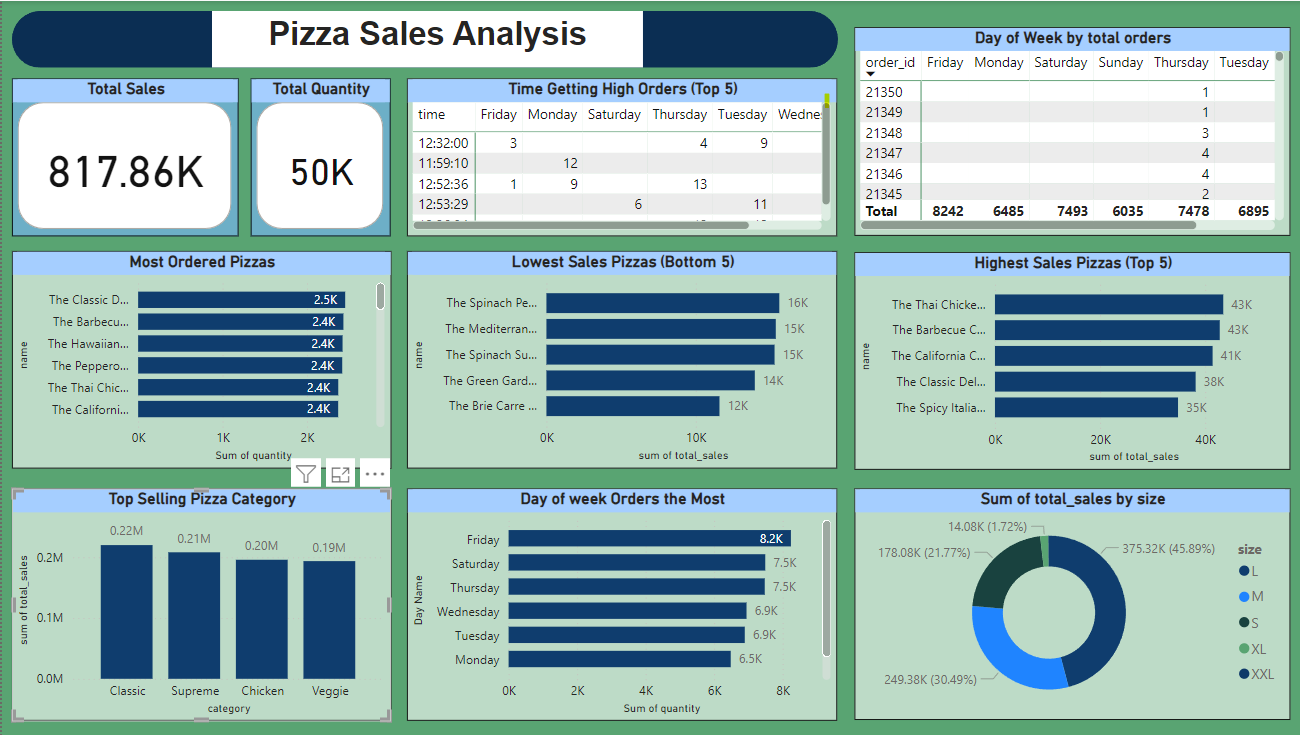

The page's visual inventory and layout, read from the dashboard file:
{"tool":"powerbi","page":{"name":"Page 1","canvas":[1280,720],"ordinal":0},"visuals":[{"type":"cardVisual","title":"Total Sales","fields":{"Data":["Sum(order_details.total_sales)"]},"box":[9.5,75.8,222,154.3],"z":0},{"type":"barChart","title":"Highest Sales Pizzas (Top 5)","fields":{"Category":["pizza_types.name"],"Y":["order_details.sumoftotalsales"]},"box":[833.7,246.3,426.3,212.5],"z":1000},{"type":"barChart","title":"Lowest Sales Pizzas (Bottom 5)","fields":{"Category":["pizza_types.name"],"Y":["order_details.sumoftotalsales"]},"box":[396.5,245,420.9,212.5],"z":2000},{"type":"cardVisual","title":"Total Quantity","fields":{"Data":["Sum(order_details.quantity)"]},"box":[243.6,75.8,136.7,154.3],"z":3000},{"type":"columnChart","title":"Top Selling Pizza Category","fields":{"Category":["pizza_types.category"],"Y":["order_details.sum of total_sales"]},"box":[9.5,476.4,370.8,227.4],"z":4000},{"type":"barChart","title":"Day of week Orders the Most","fields":{"Y":["Sum(order_details.quantity)"],"Category":["orders.Day Name"]},"box":[396.5,476.4,420.9,227.4],"z":5000},{"type":"barChart","title":"Most Ordered Pizzas","fields":{"Y":["Sum(order_details.quantity)"],"Category":["pizza_types.name"]},"box":[9.5,245,370.8,212.5],"z":6000},{"type":"pivotTable","title":"Day of Week by total orders","fields":{"Rows":["orders.order_id"],"Columns":["orders.Day Name"],"Values":["Sum(order_details.quantity)"]},"box":[833.7,25.7,426.3,204.4],"z":7000},{"type":"pivotTable","title":"Time Getting High Orders (Top 5)","fields":{"Rows":["orders.time"],"Columns":["orders.Day Name"],"Values":["Sum(order_details.quantity)"]},"box":[396.5,75.8,420.9,154.3],"z":8000},{"type":"donutChart","fields":{"Y":["Sum(order_details.total_sales)"],"Category":["pizzas.size"]},"box":[833.7,476.4,426.3,226],"z":8001},{"type":"shape","box":[9.5,9.5,808,55.5],"z":8002},{"type":"textbox","box":[205.4,9.8,421.9,55],"z":8003}]}

Visuals, with their boxes in screenshot pixels (x1, y1, x2, y2), scaled from the page's 1280x720 canvas onto the 1300x735 screenshot:
"Total Sales" cardVisual: region(10, 77, 235, 235)
"Highest Sales Pizzas (Top 5)" barChart: region(847, 251, 1280, 468)
"Lowest Sales Pizzas (Bottom 5)" barChart: region(403, 250, 830, 467)
"Total Quantity" cardVisual: region(247, 77, 386, 235)
"Top Selling Pizza Category" columnChart: region(10, 486, 386, 718)
"Day of week Orders the Most" barChart: region(403, 486, 830, 718)
"Most Ordered Pizzas" barChart: region(10, 250, 386, 467)
"Day of Week by total orders" pivotTable: region(847, 26, 1280, 235)
"Time Getting High Orders (Top 5)" pivotTable: region(403, 77, 830, 235)
donutChart - Sum(order_details.total_sales) x pizzas.size: region(847, 486, 1280, 717)
shape: region(10, 10, 830, 66)
textbox: region(209, 10, 637, 66)
